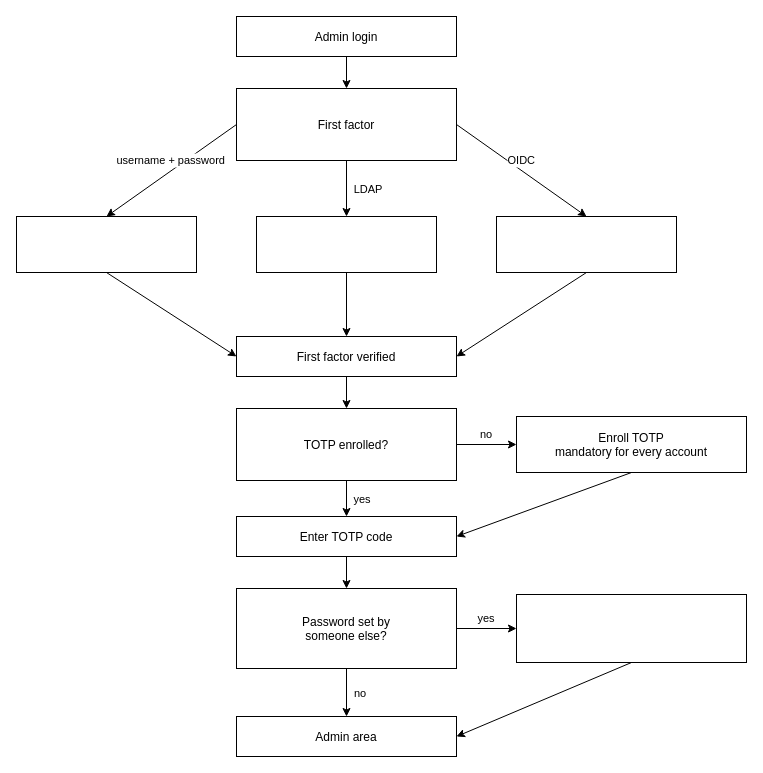
Some shapes in this 763 by 773 pixel diagram are drawn without their labels. The centre of each missing label's shape, as x and y in pixels:
"Choose own password at /admin/account, nothing else opens" goes at point (631, 628).
"Database" goes at point (106, 244).
"External identity provider" goes at point (586, 244).
"LDAP server" goes at point (346, 244).
